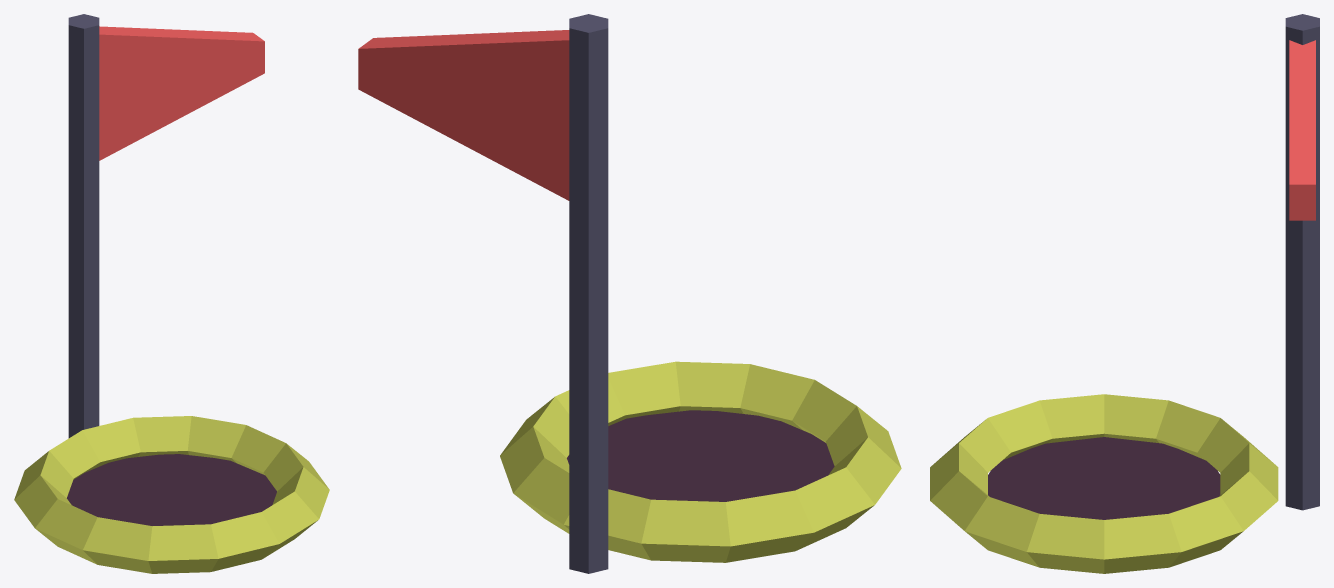
The model's file is goal.glb.
3 renders of one model, left to right at view 1: azimuth 30°, elevation 25°; view 2: azimuth 150°, elevation 25°; view 3: azimuth 270°, elevation 25°, orthographic. The views are drawn at different scales.
Visible parts, largest first — view 1: Rim, Flag, Pole, Pit; view 2: Rim, Flag, Pole, Pit; view 3: Rim, Pit, Pole, Flag.
Part boxes in pixels (x1,y1,x2,y2): Rim: (14,416,329,573); Flag: (99,26,264,160); Pole: (68,14,99,438); Pit: (67,454,276,525); Rim: (500,361,901,562); Flag: (358,30,569,200); Pole: (569,14,608,573); Pit: (567,410,834,501); Rim: (930,394,1278,573); Pit: (988,437,1220,519); Pole: (1285,14,1319,510); Flag: (1289,40,1315,220).
Size of the model in its own units: 1.23 by 1.63 by 1.18.
